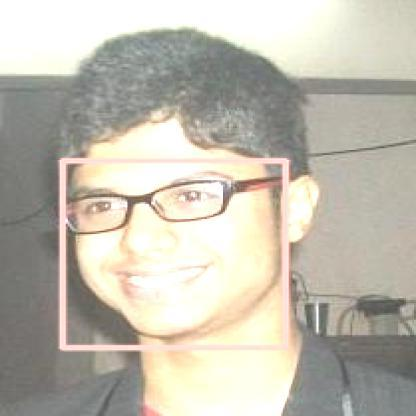without_mask: (62, 160, 285, 347)
